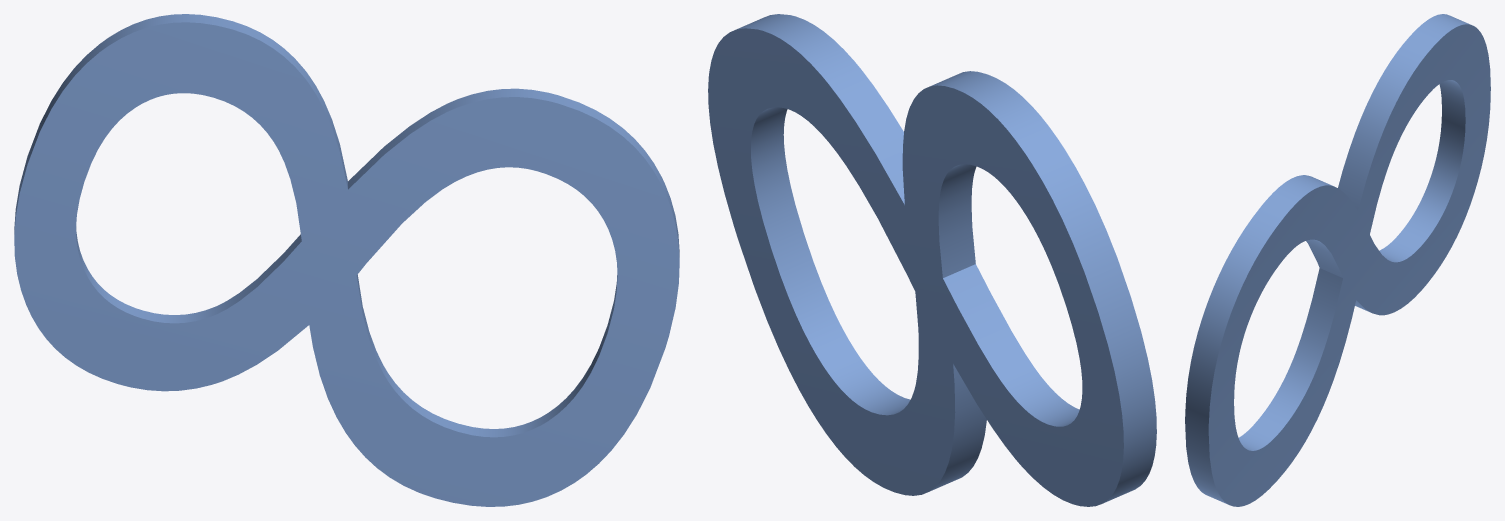
The model's file is Number_8.gltf.
The picture shows the model from 3 angles, left to right: view 1: azimuth 30°, elevation 25°; view 2: azimuth 150°, elevation 25°; view 3: azimuth 270°, elevation 25°; orthographic projection. The views are drawn at different scales.
Visible parts, largest first — view 1: Sub_3_Cell_1_1_Number_8; view 2: Sub_3_Cell_1_1_Number_8; view 3: Sub_3_Cell_1_1_Number_8.
Boxes of the visible parts, bbox=[...] form: Sub_3_Cell_1_1_Number_8: bbox=[14, 14, 679, 506]; Sub_3_Cell_1_1_Number_8: bbox=[708, 14, 1156, 506]; Sub_3_Cell_1_1_Number_8: bbox=[1185, 14, 1490, 506].
Bounding box in the file's own units: 0.0233 × 0.0196 × 0.014.
